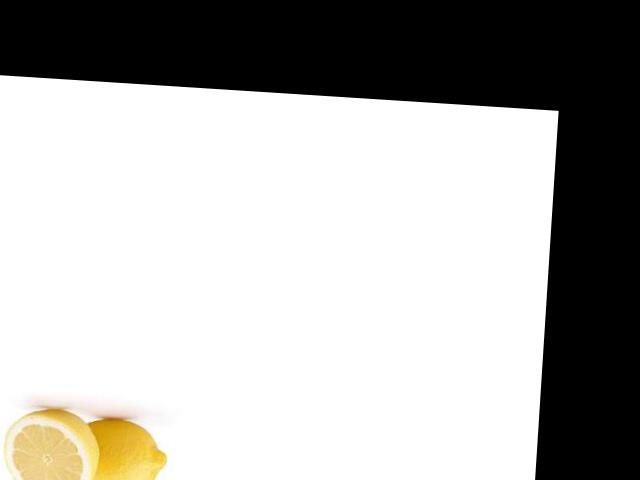lemon: (66, 407, 175, 480)
